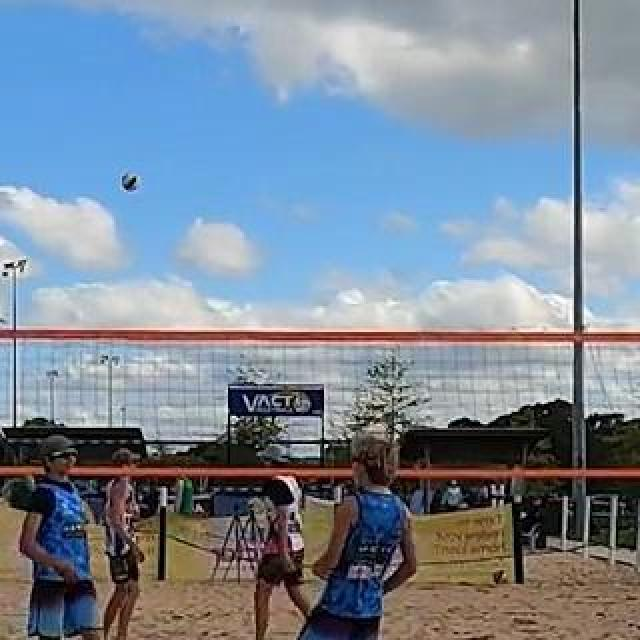volleyball: (123, 176, 139, 192), (492, 568, 508, 584)
